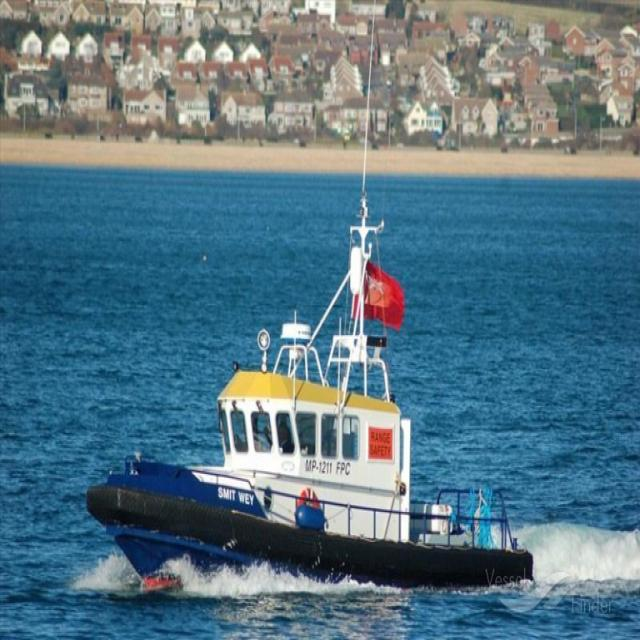tugboat: (87, 200, 533, 592)
